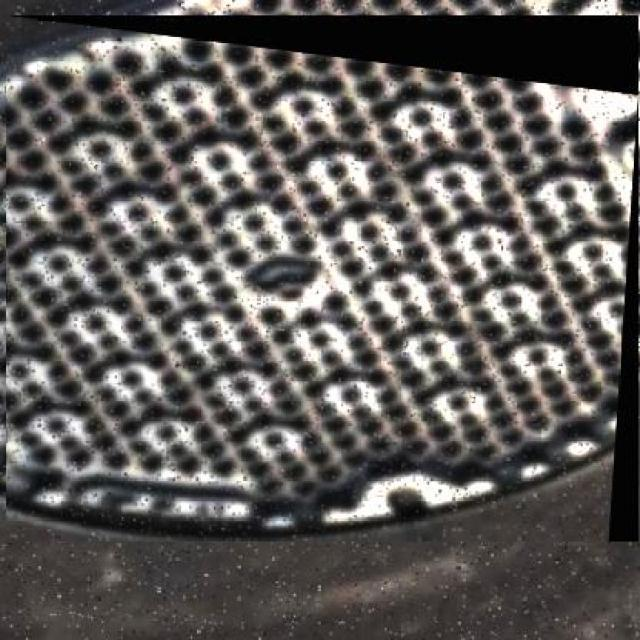Manhole: (6, 16, 639, 542)
